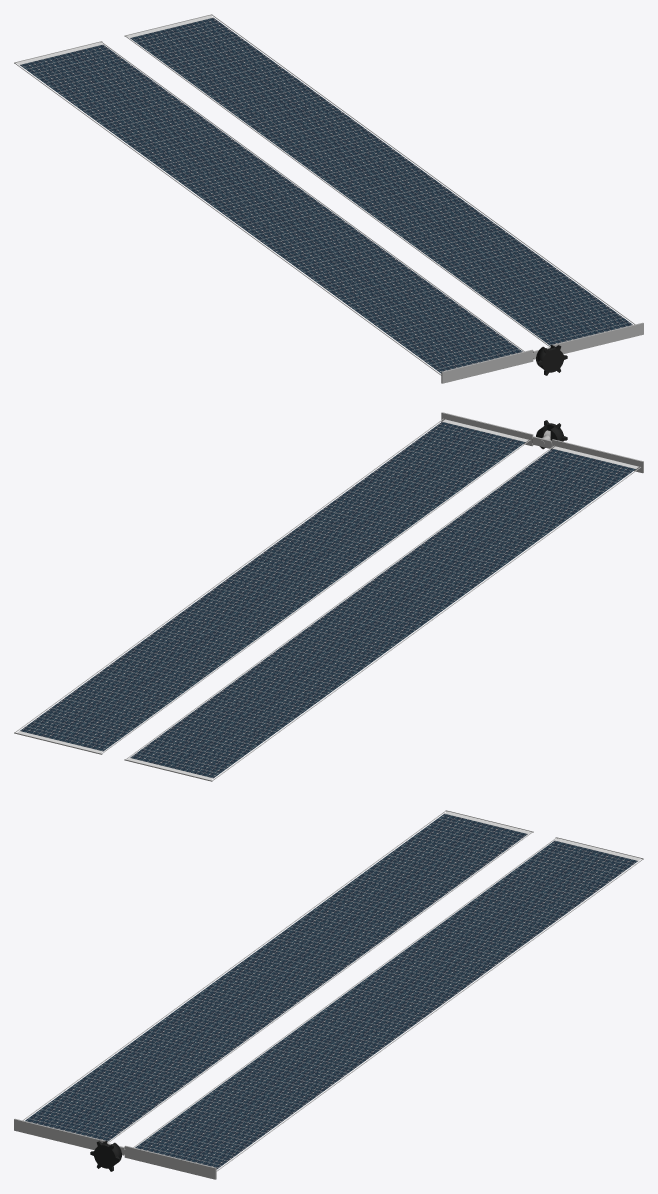
3 views of the same model, one above another, from view 1: azimuth 30°, elevation 25°; view 2: azimuth 150°, elevation 25°; view 3: azimuth 330°, elevation 25° (orthographic).
Visible parts, largest first — view 1: Array_supportL, Array_supportR, Array_axe_L2, Array_axe_R1, Array_axe_L1, Array_axe_R2, PannelRot.065, PannelRot.097, PannelRot.105, PannelRot.011, PannelRot.013, PannelRot.029 (+127 smaller); view 2: Array_axe_L1, Array_axe_R2, Array_axe_R1, Array_axe_L2, Array_supportL, Array_supportR, PannelRot.039, PannelRot.057, PannelRot.079, PannelRot.095, PannelRot.103, PannelRot.122 (+128 smaller); view 3: Array_supportR, Array_supportL, Array_axe_R2, Array_axe_L2, Array_axe_L1, Array_axe_R1, PannelRot.031, PannelRot.039, PannelRot.132, PannelRot.013, PannelRot.015, PannelRot.047 (+127 smaller).
Part boxes in pixels (box(x1,y1,x2,y2)): Array_supportL: box(441, 349, 533, 383); Array_supportR: box(552, 322, 643, 354); Array_axe_L2: box(14, 62, 441, 375); Array_axe_R1: box(125, 35, 550, 346); Array_axe_L1: box(101, 41, 524, 351); Array_axe_R2: box(212, 14, 635, 324); PannelRot.065: box(38, 58, 127, 83); PannelRot.097: box(363, 188, 452, 213); PannelRot.105: box(313, 151, 402, 176); PannelRot.011: box(379, 307, 468, 332); PannelRot.013: box(367, 298, 455, 323); PannelRot.029: box(266, 224, 355, 249); Array_axe_L1: box(125, 445, 554, 759); Array_axe_R2: box(15, 418, 443, 732); Array_axe_R1: box(101, 440, 530, 753); Array_axe_L2: box(212, 467, 641, 780); Array_supportL: box(552, 439, 643, 473); Array_supportR: box(441, 412, 533, 446); PannelRot.039: box(313, 619, 402, 644); PannelRot.057: box(199, 702, 288, 727); PannelRot.079: box(367, 472, 455, 497); PannelRot.095: box(266, 546, 355, 571); PannelRot.103: box(215, 583, 304, 608); PannelRot.122: box(102, 666, 190, 691); Array_supportR: box(124, 1145, 216, 1179); Array_supportL: box(14, 1118, 105, 1150); Array_axe_R2: box(216, 858, 643, 1171); Array_axe_L2: box(22, 810, 445, 1120); Array_axe_L1: box(107, 831, 532, 1142); Array_axe_R1: box(133, 837, 556, 1147); PannelRot.031: box(205, 984, 294, 1009); PannelRot.039: box(255, 947, 344, 972); PannelRot.132: box(530, 854, 619, 879); PannelRot.013: box(91, 1067, 180, 1092); PannelRot.015: box(104, 1058, 193, 1083); PannelRot.047: box(306, 910, 395, 935).
Size of the model in its own units: 5.54 by 0.7138 by 20.93.
